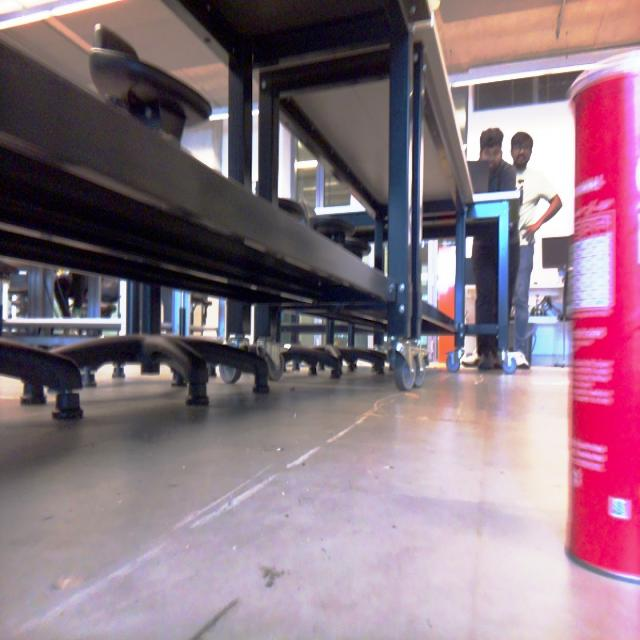redpringles: (541, 52, 640, 586)
